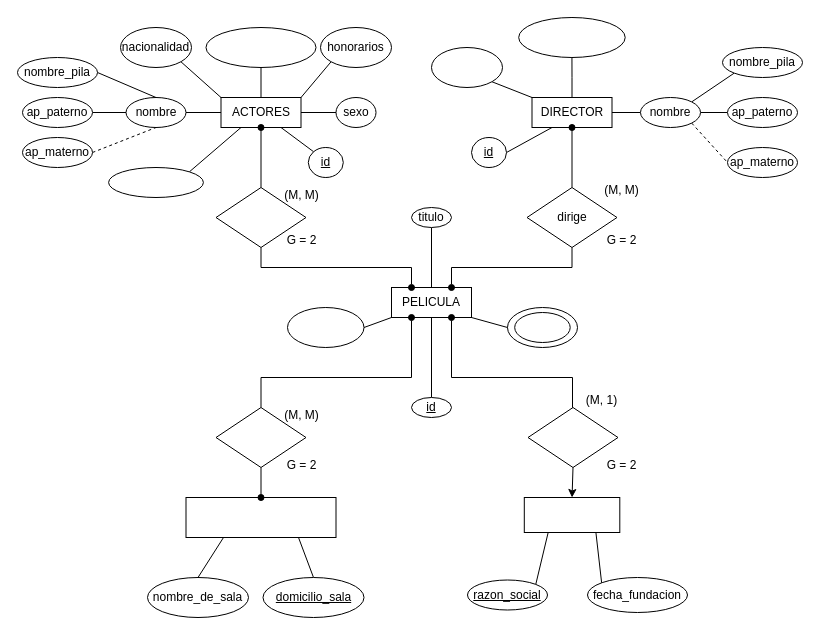
Some shapes in this 820 by 635 pixel diagram are drawn without their labels. Here are the shapes that lost their labels. From the top down, the box of each, then its label:
(205, 26, 316, 68): fecha_nacimiento
(518, 16, 625, 58): director_principal
(430, 46, 502, 88): pais_origen
(108, 166, 203, 198): actor_principal
(215, 186, 306, 248): participa
(286, 306, 364, 348): clasificacion
(514, 312, 570, 342): genero
(215, 406, 306, 468): exhibe
(527, 406, 618, 468): produce
(185, 496, 336, 538): SALAS CINEMATOGRAFICAS
(523, 496, 620, 532): PRODUCTORA
